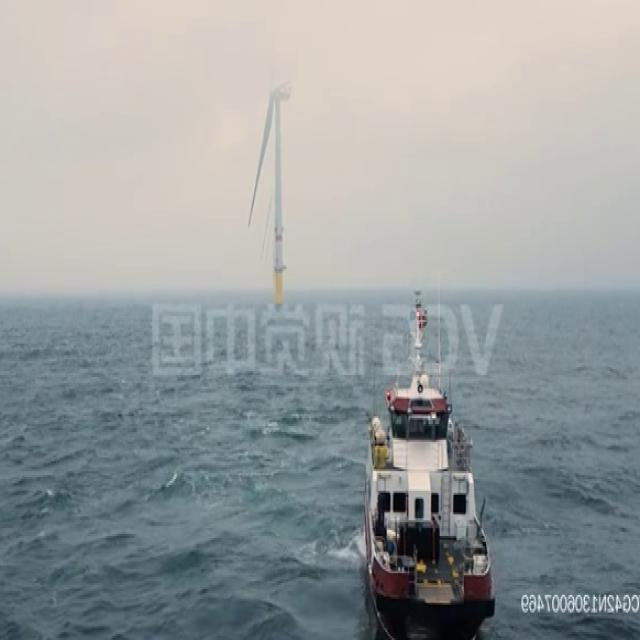houseboat: (362, 285, 493, 640)
